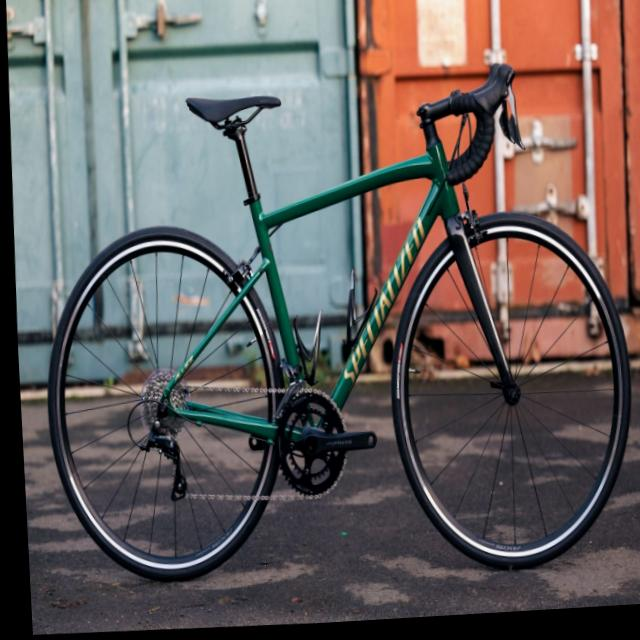road-bike: (29, 56, 639, 596)
